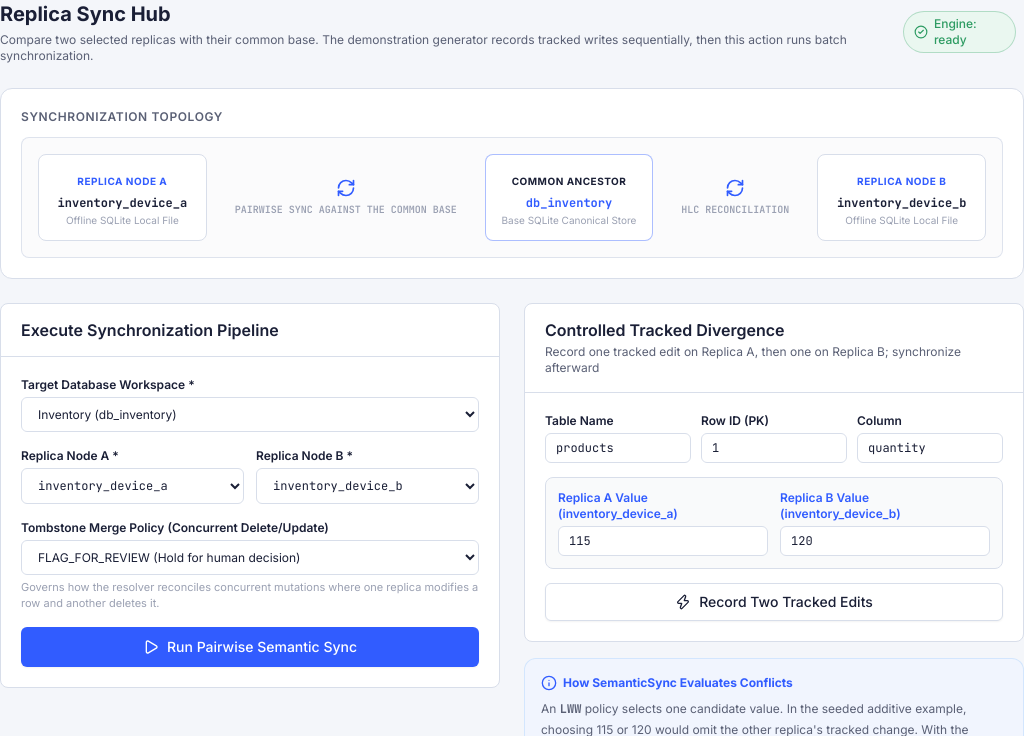
Test: Sync Hub conflict review › refreshes the persisted conflict list after sync and exposes remaining review work
Click the button "Run Pairwise Semantic Sync".
click(250, 647)  # box [21, 627, 479, 667]
(page scrolled)
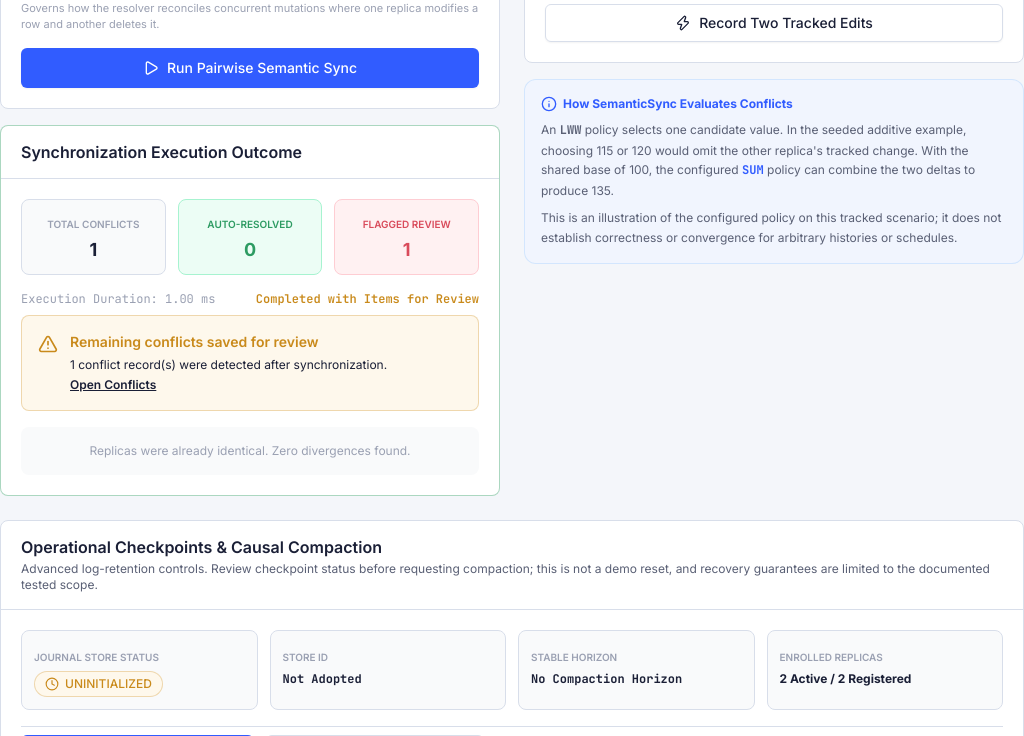
Check: the heading "Remaining conflicts saved for review" is shown, box [70, 333, 318, 350]
Check: the button "Open Conflicts" is shown, box [70, 375, 156, 394]
